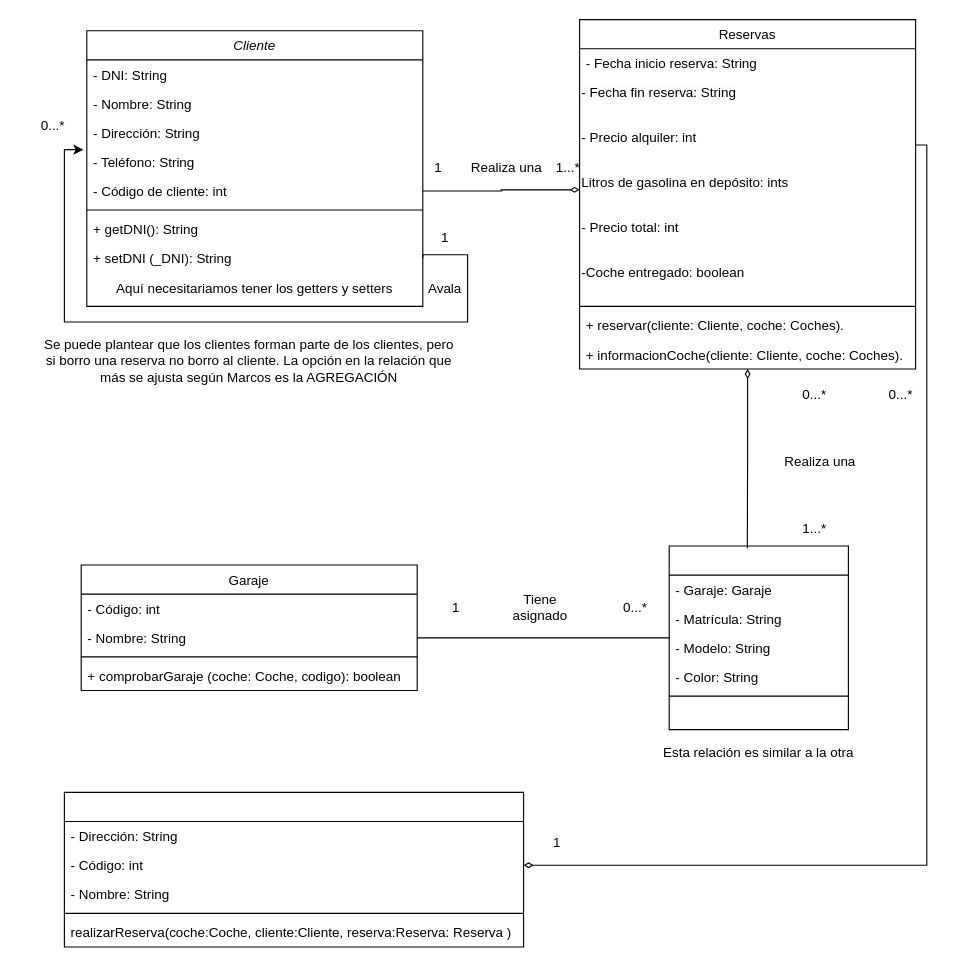
Some shapes in this 955 by 970 pixel diagram are drawn without their labels. The shapes that lost their labels are listed below. From the top down, each one's box as (x1, y1, x2, y2) in pixels, then its label:
(668, 545, 848, 730): Coche
(63, 791, 524, 947): Agencia
